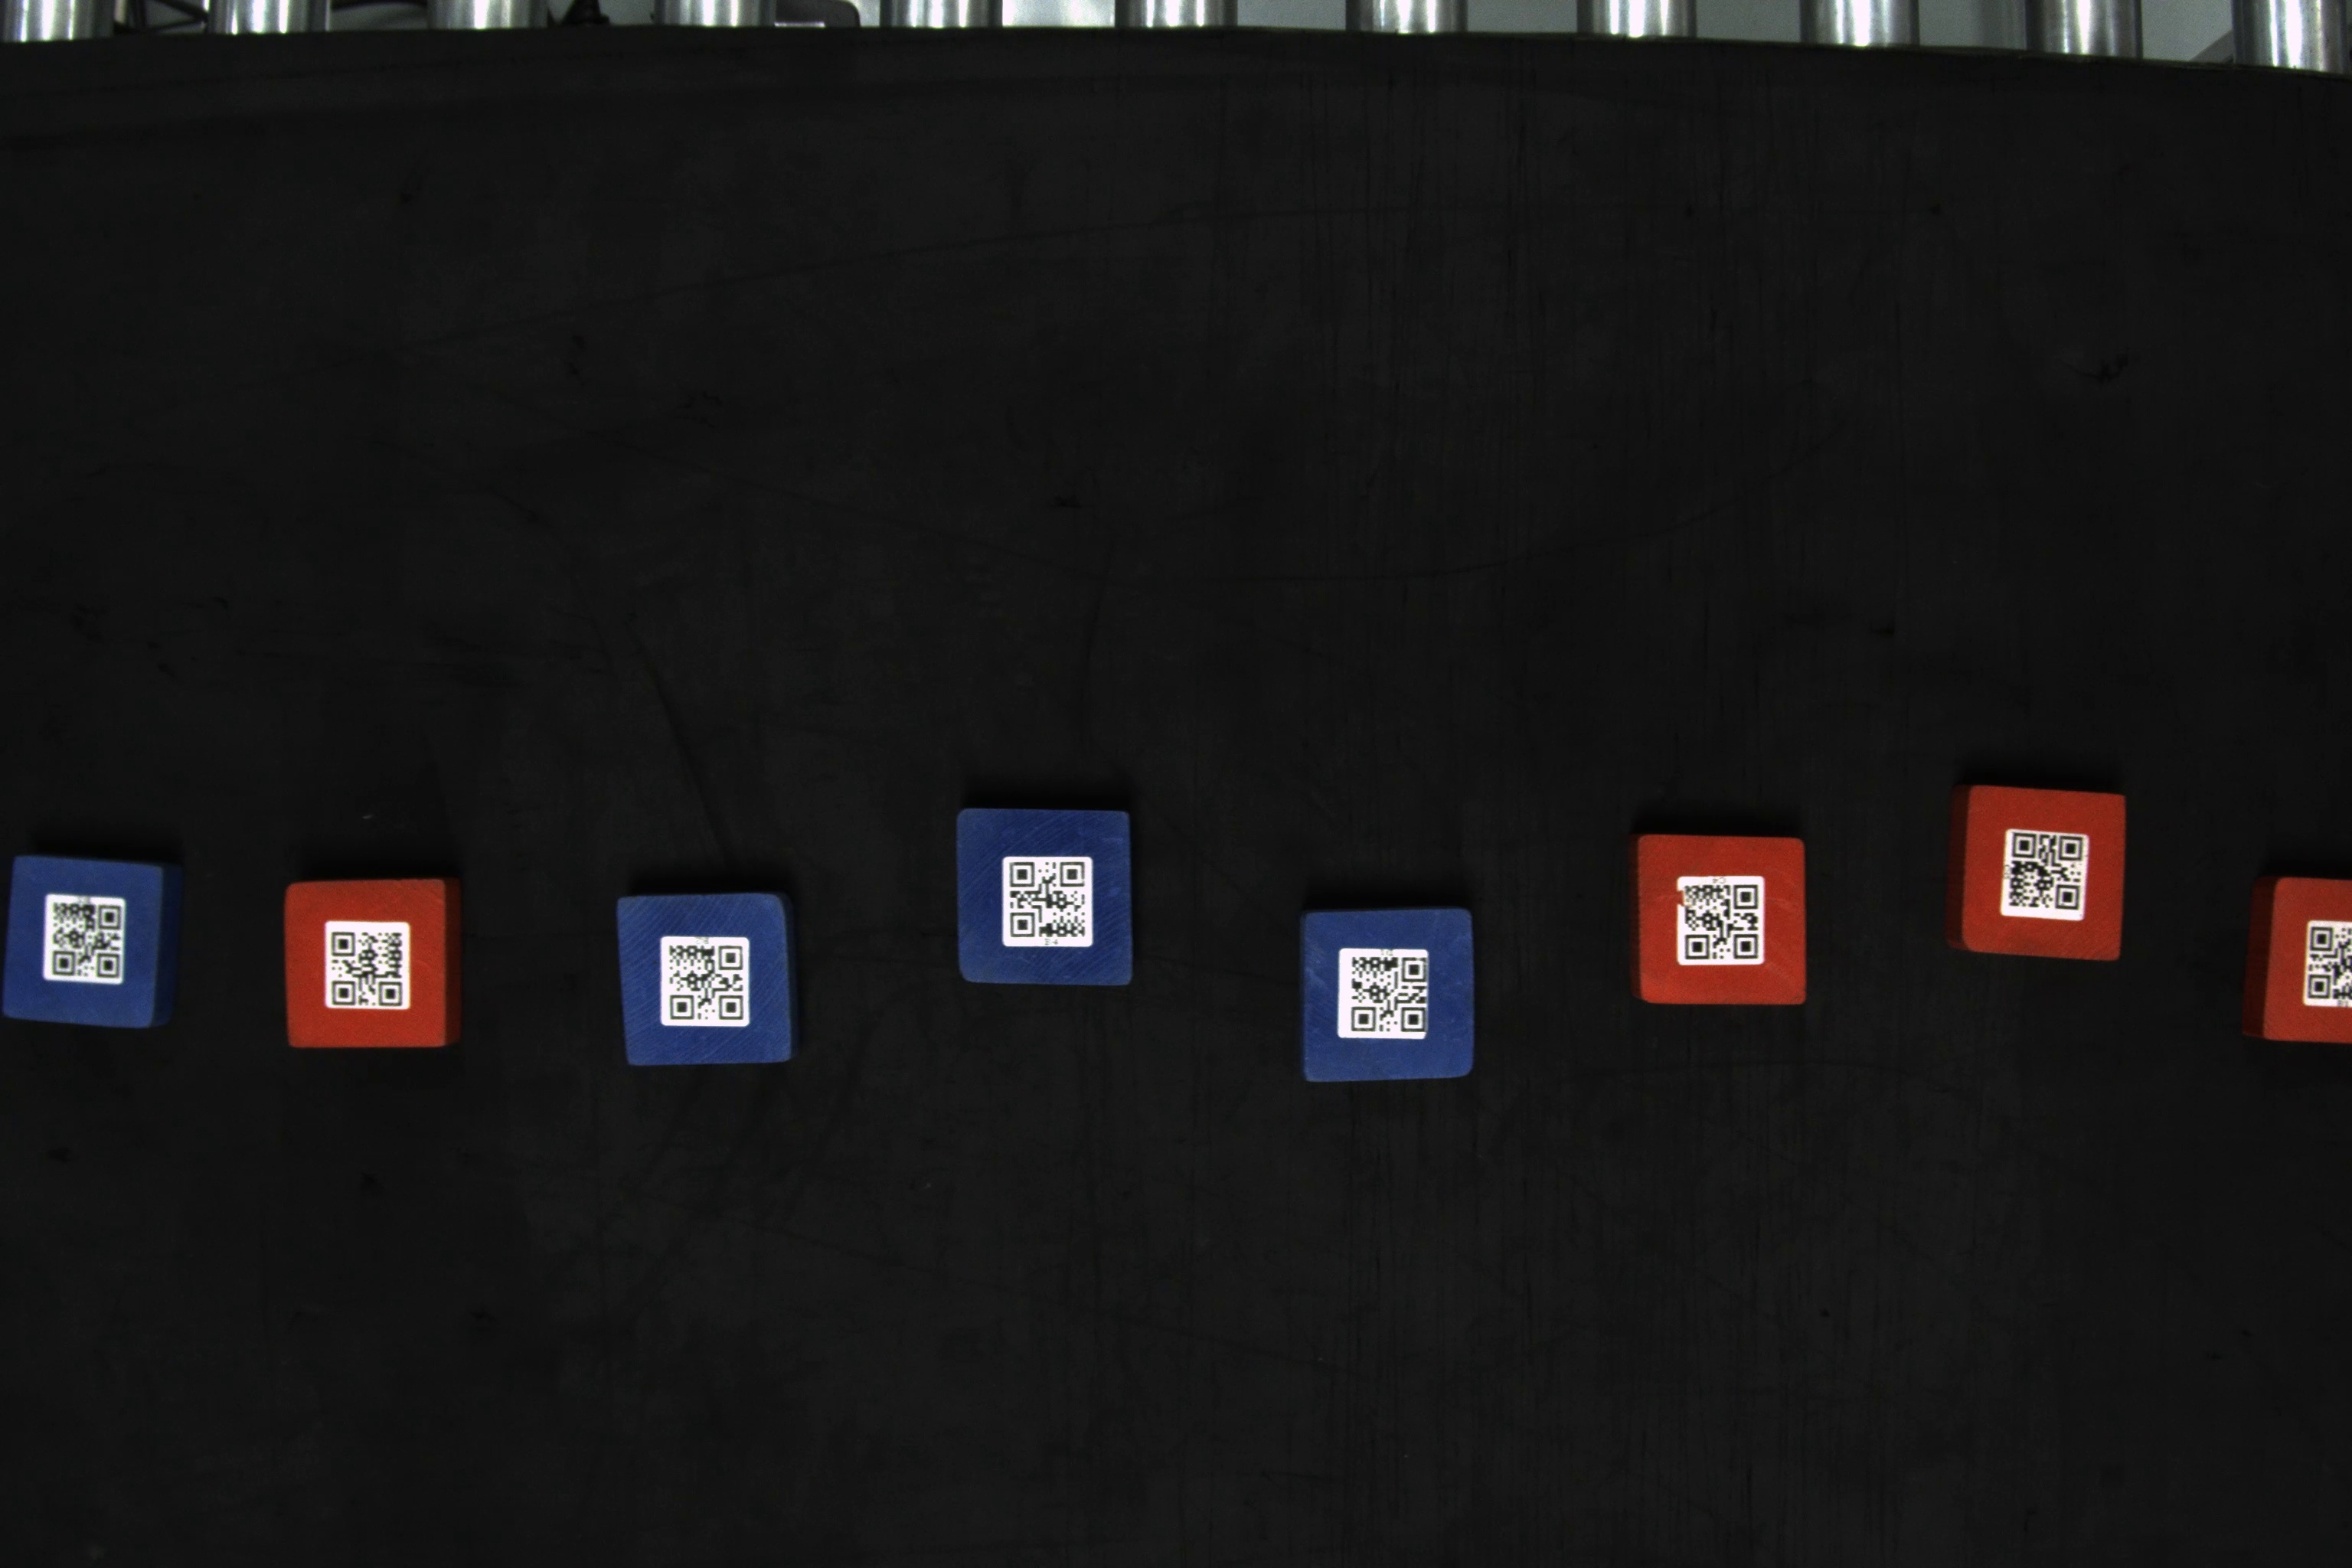wood: (612, 889, 808, 1073), (282, 870, 469, 1057), (952, 801, 1139, 989), (1946, 780, 2131, 966), (2, 847, 184, 1036), (1298, 898, 1480, 1087), (1626, 826, 1809, 1011), (2243, 864, 2352, 1053)
